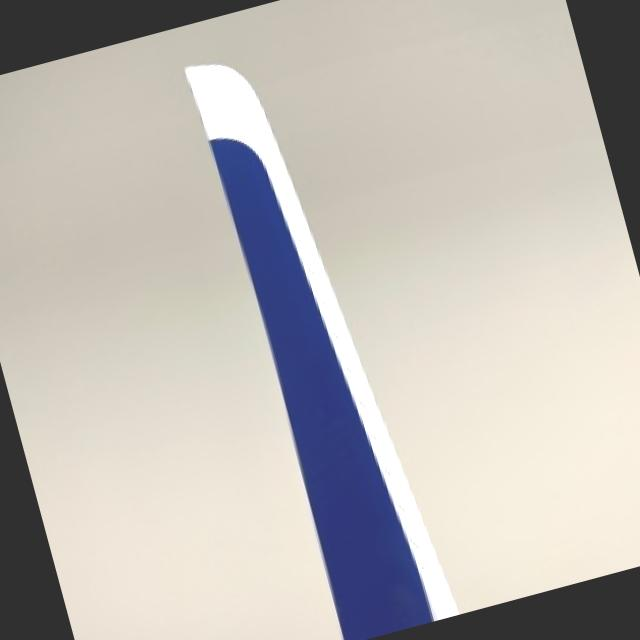healthy: (186, 65, 456, 640)
